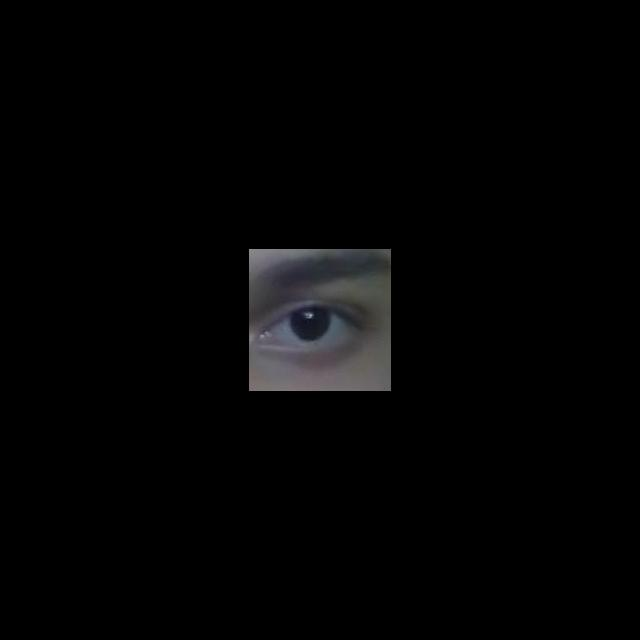eye: (271, 307, 351, 341)
iris: (291, 308, 329, 339)
